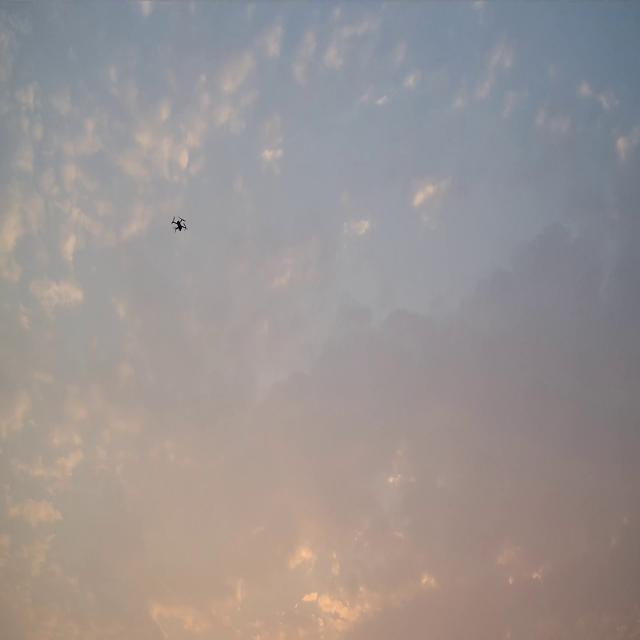drone: (171, 215, 188, 233)
